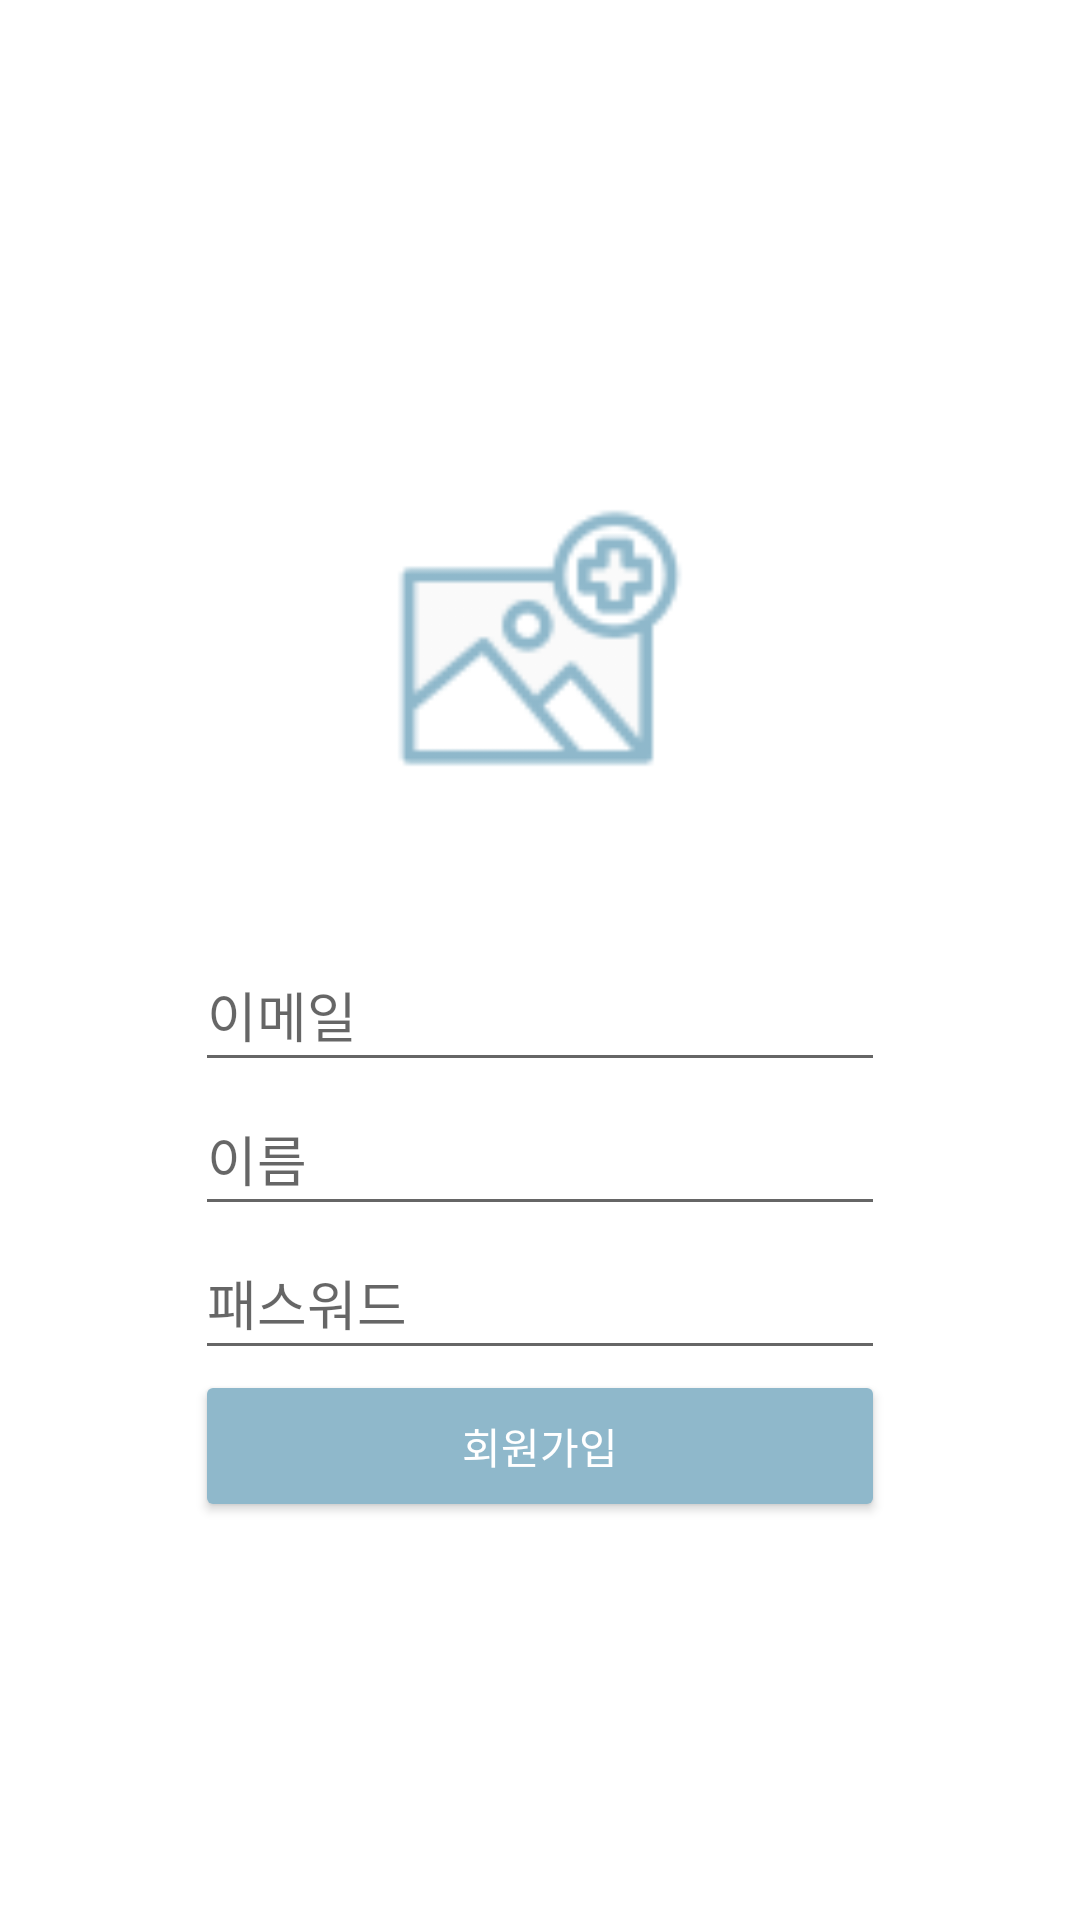

Named icons in this screenshot (1080 x 1920) and their bounding boxes, (x1, y1, x2, y2):
add: (400, 511, 680, 765)
